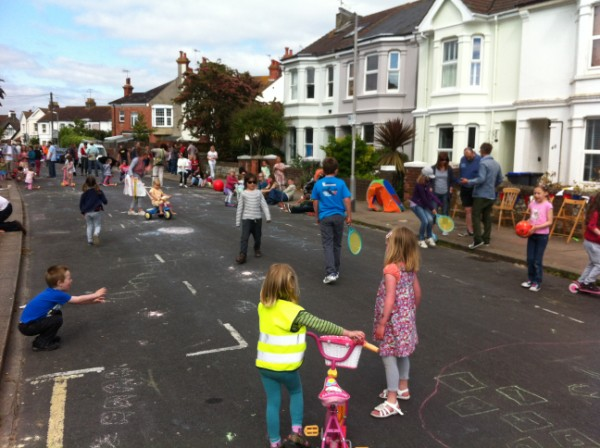Person: (242, 262, 321, 440), (367, 225, 427, 423), (305, 151, 368, 288), (512, 183, 566, 297), (460, 137, 511, 255), (229, 170, 279, 262), (74, 175, 113, 246)
